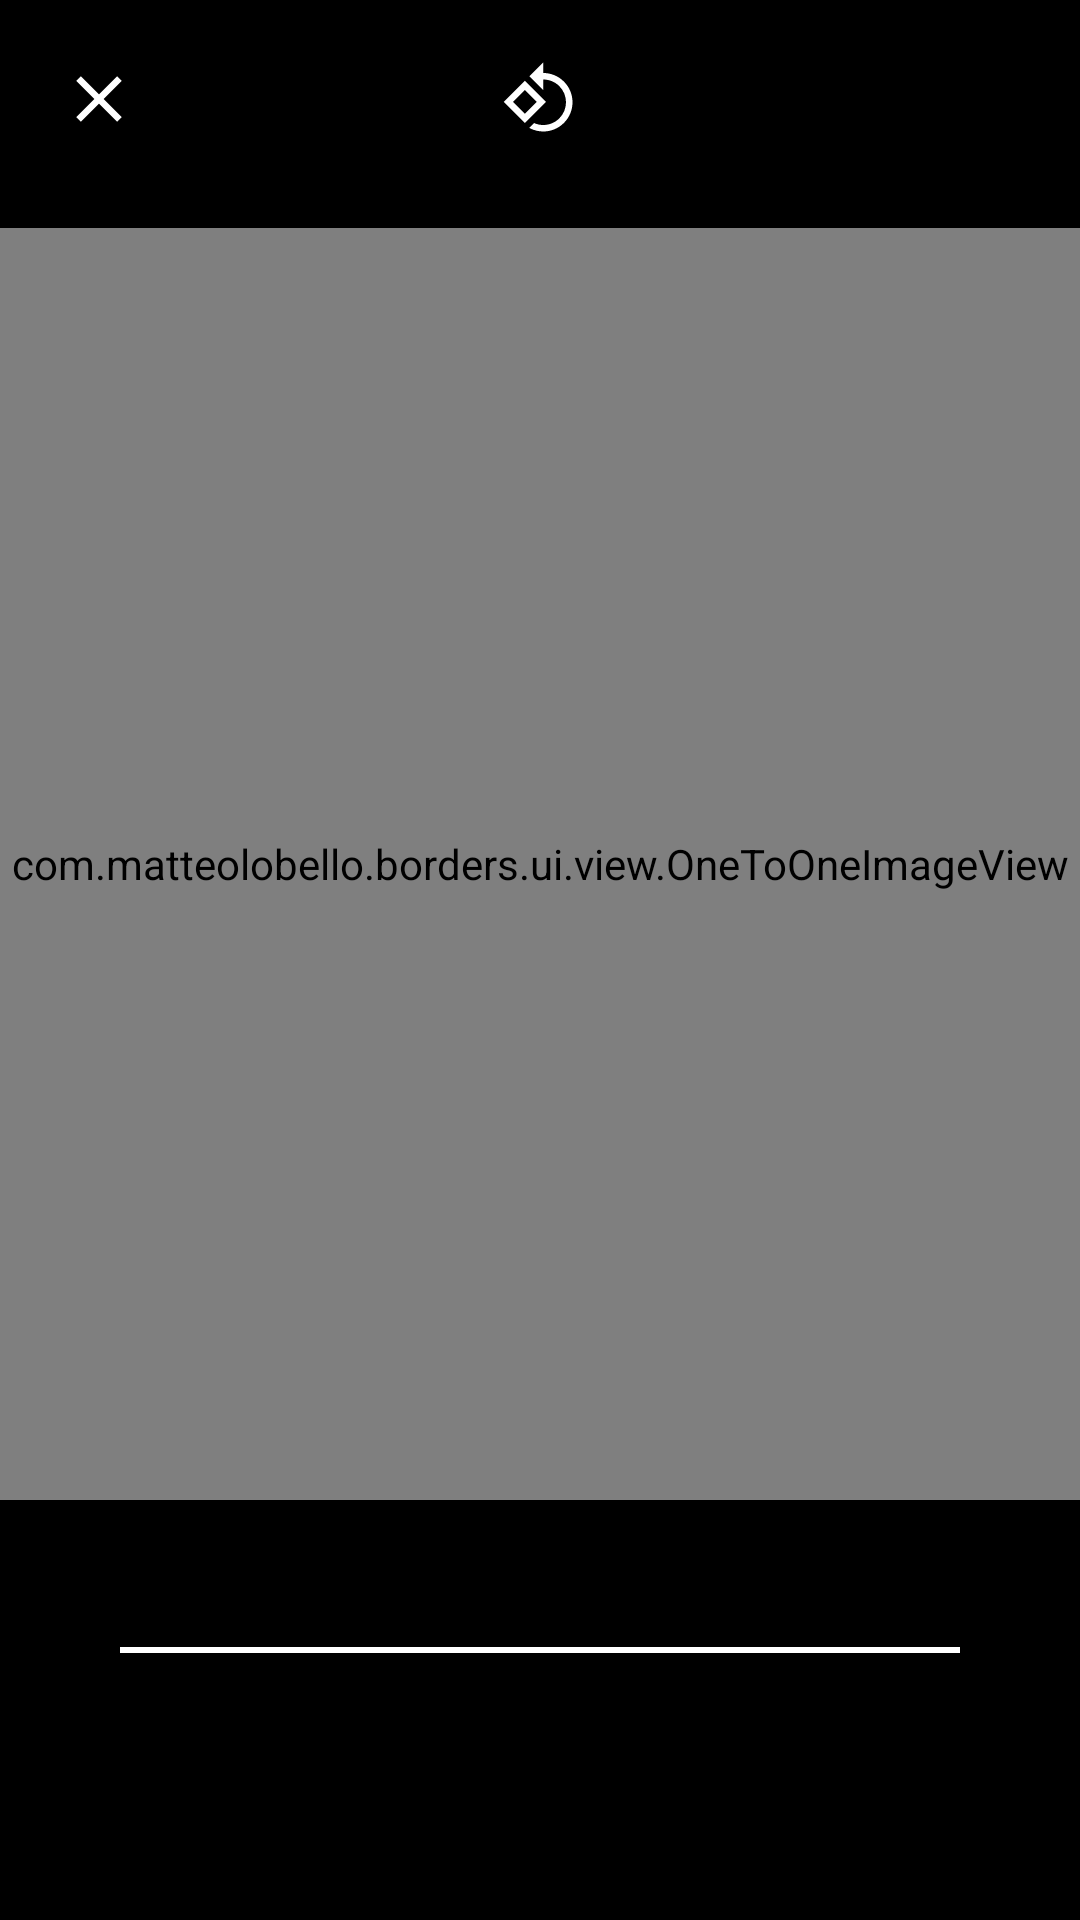

Locate icon controls on the screen. Image size 1080×1920, boxes as (x1, y1, x2, y2).
close: (76, 76, 122, 122)
rotate: (504, 62, 573, 132)
